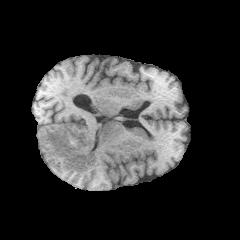glioma: (40, 128, 96, 173)
